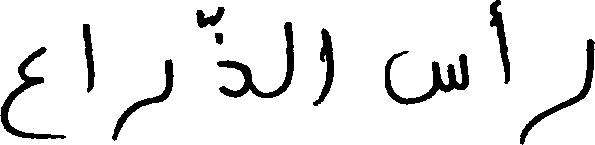X: (522, 34, 594, 144), (113, 54, 172, 144), (384, 46, 468, 109), (0, 42, 43, 143), (217, 2, 251, 102), (490, 0, 510, 88), (316, 23, 334, 110), (82, 19, 95, 97), (284, 17, 294, 96)
